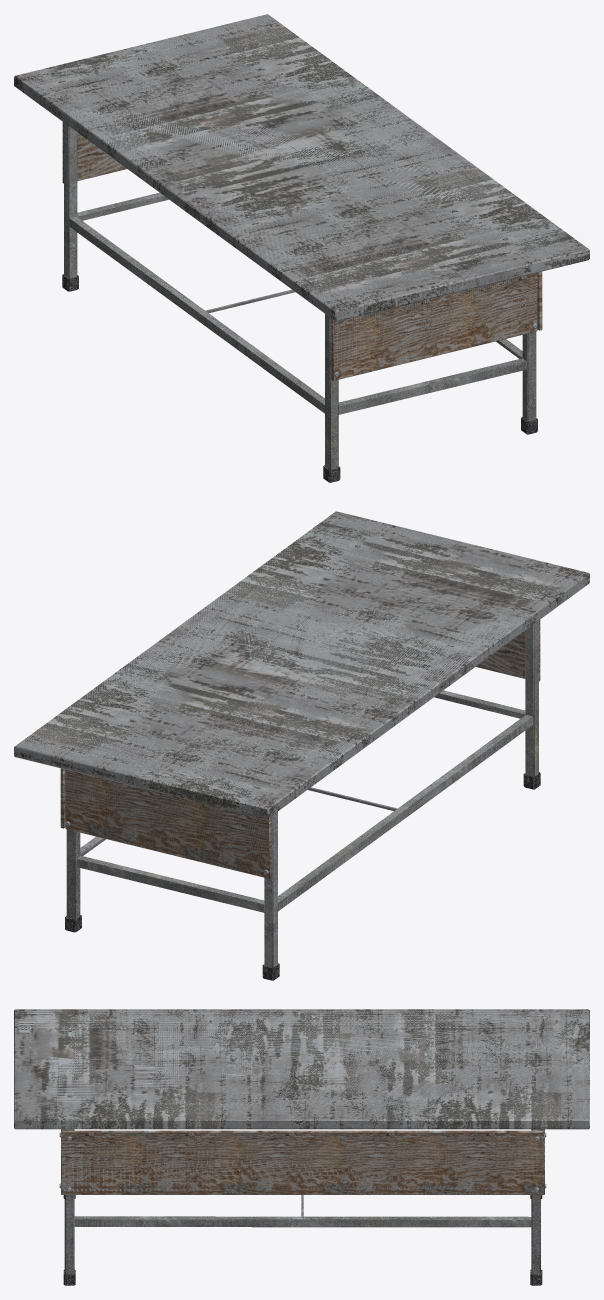
Rendered from mesa_enfermaria.dae.
3 renders of one model, top to bottom at view 1: azimuth 30°, elevation 25°; view 2: azimuth 150°, elevation 25°; view 3: azimuth 270°, elevation 25°, orthographic. The views are drawn at different scales.
Parts seen in each view (by area): view 1: stol_tex (×4); view 2: stol_tex (×4); view 3: stol_tex (×3).
Part boxes in pixels (x1,y1,x2,y2): stol_tex (×4): (14, 14, 589, 469); stol_tex (×4): (14, 511, 589, 967); stol_tex (×3): (14, 1009, 589, 1273).
Size of the model in its own units: 44.88 by 98.27 by 33.41.
